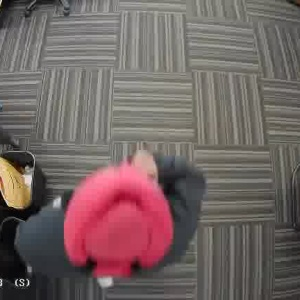person: (19, 142, 213, 280)
